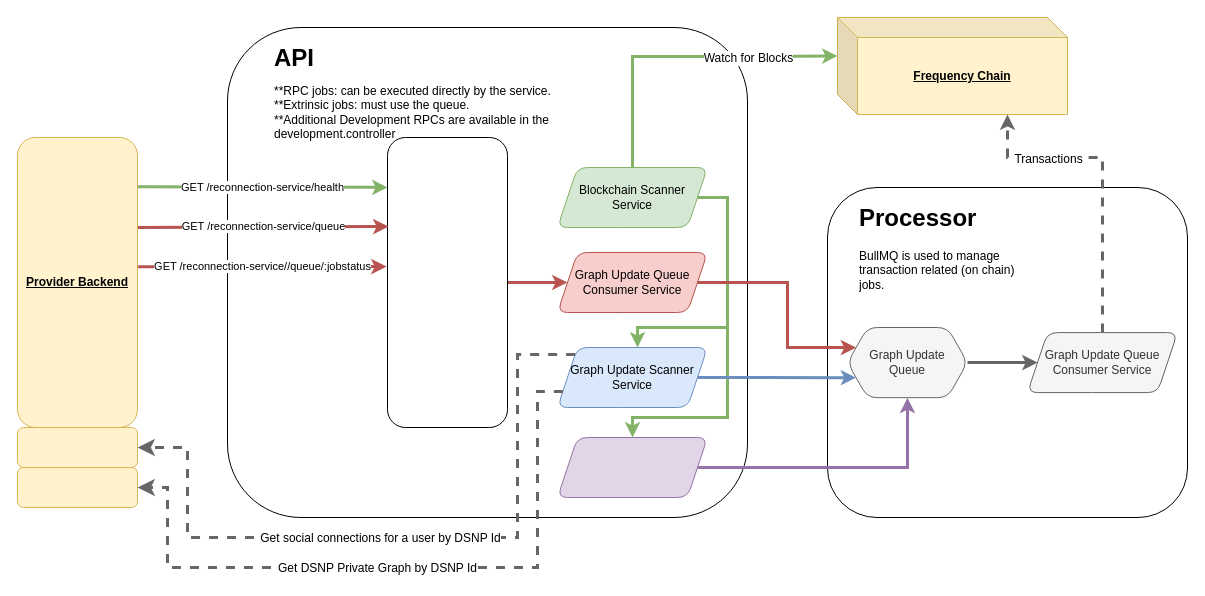
Image size: 1205x596. Some labels were removed from this diagram. The centre of each missing label's shape, as x and y in pixels:
"API Controllers" belongs at (x=447, y=282).
"Graph Key API" belongs at (x=77, y=487).
"Graph Update Completion Monitor Service" belongs at (x=632, y=467).
"Social Connections API" belongs at (x=77, y=447).
